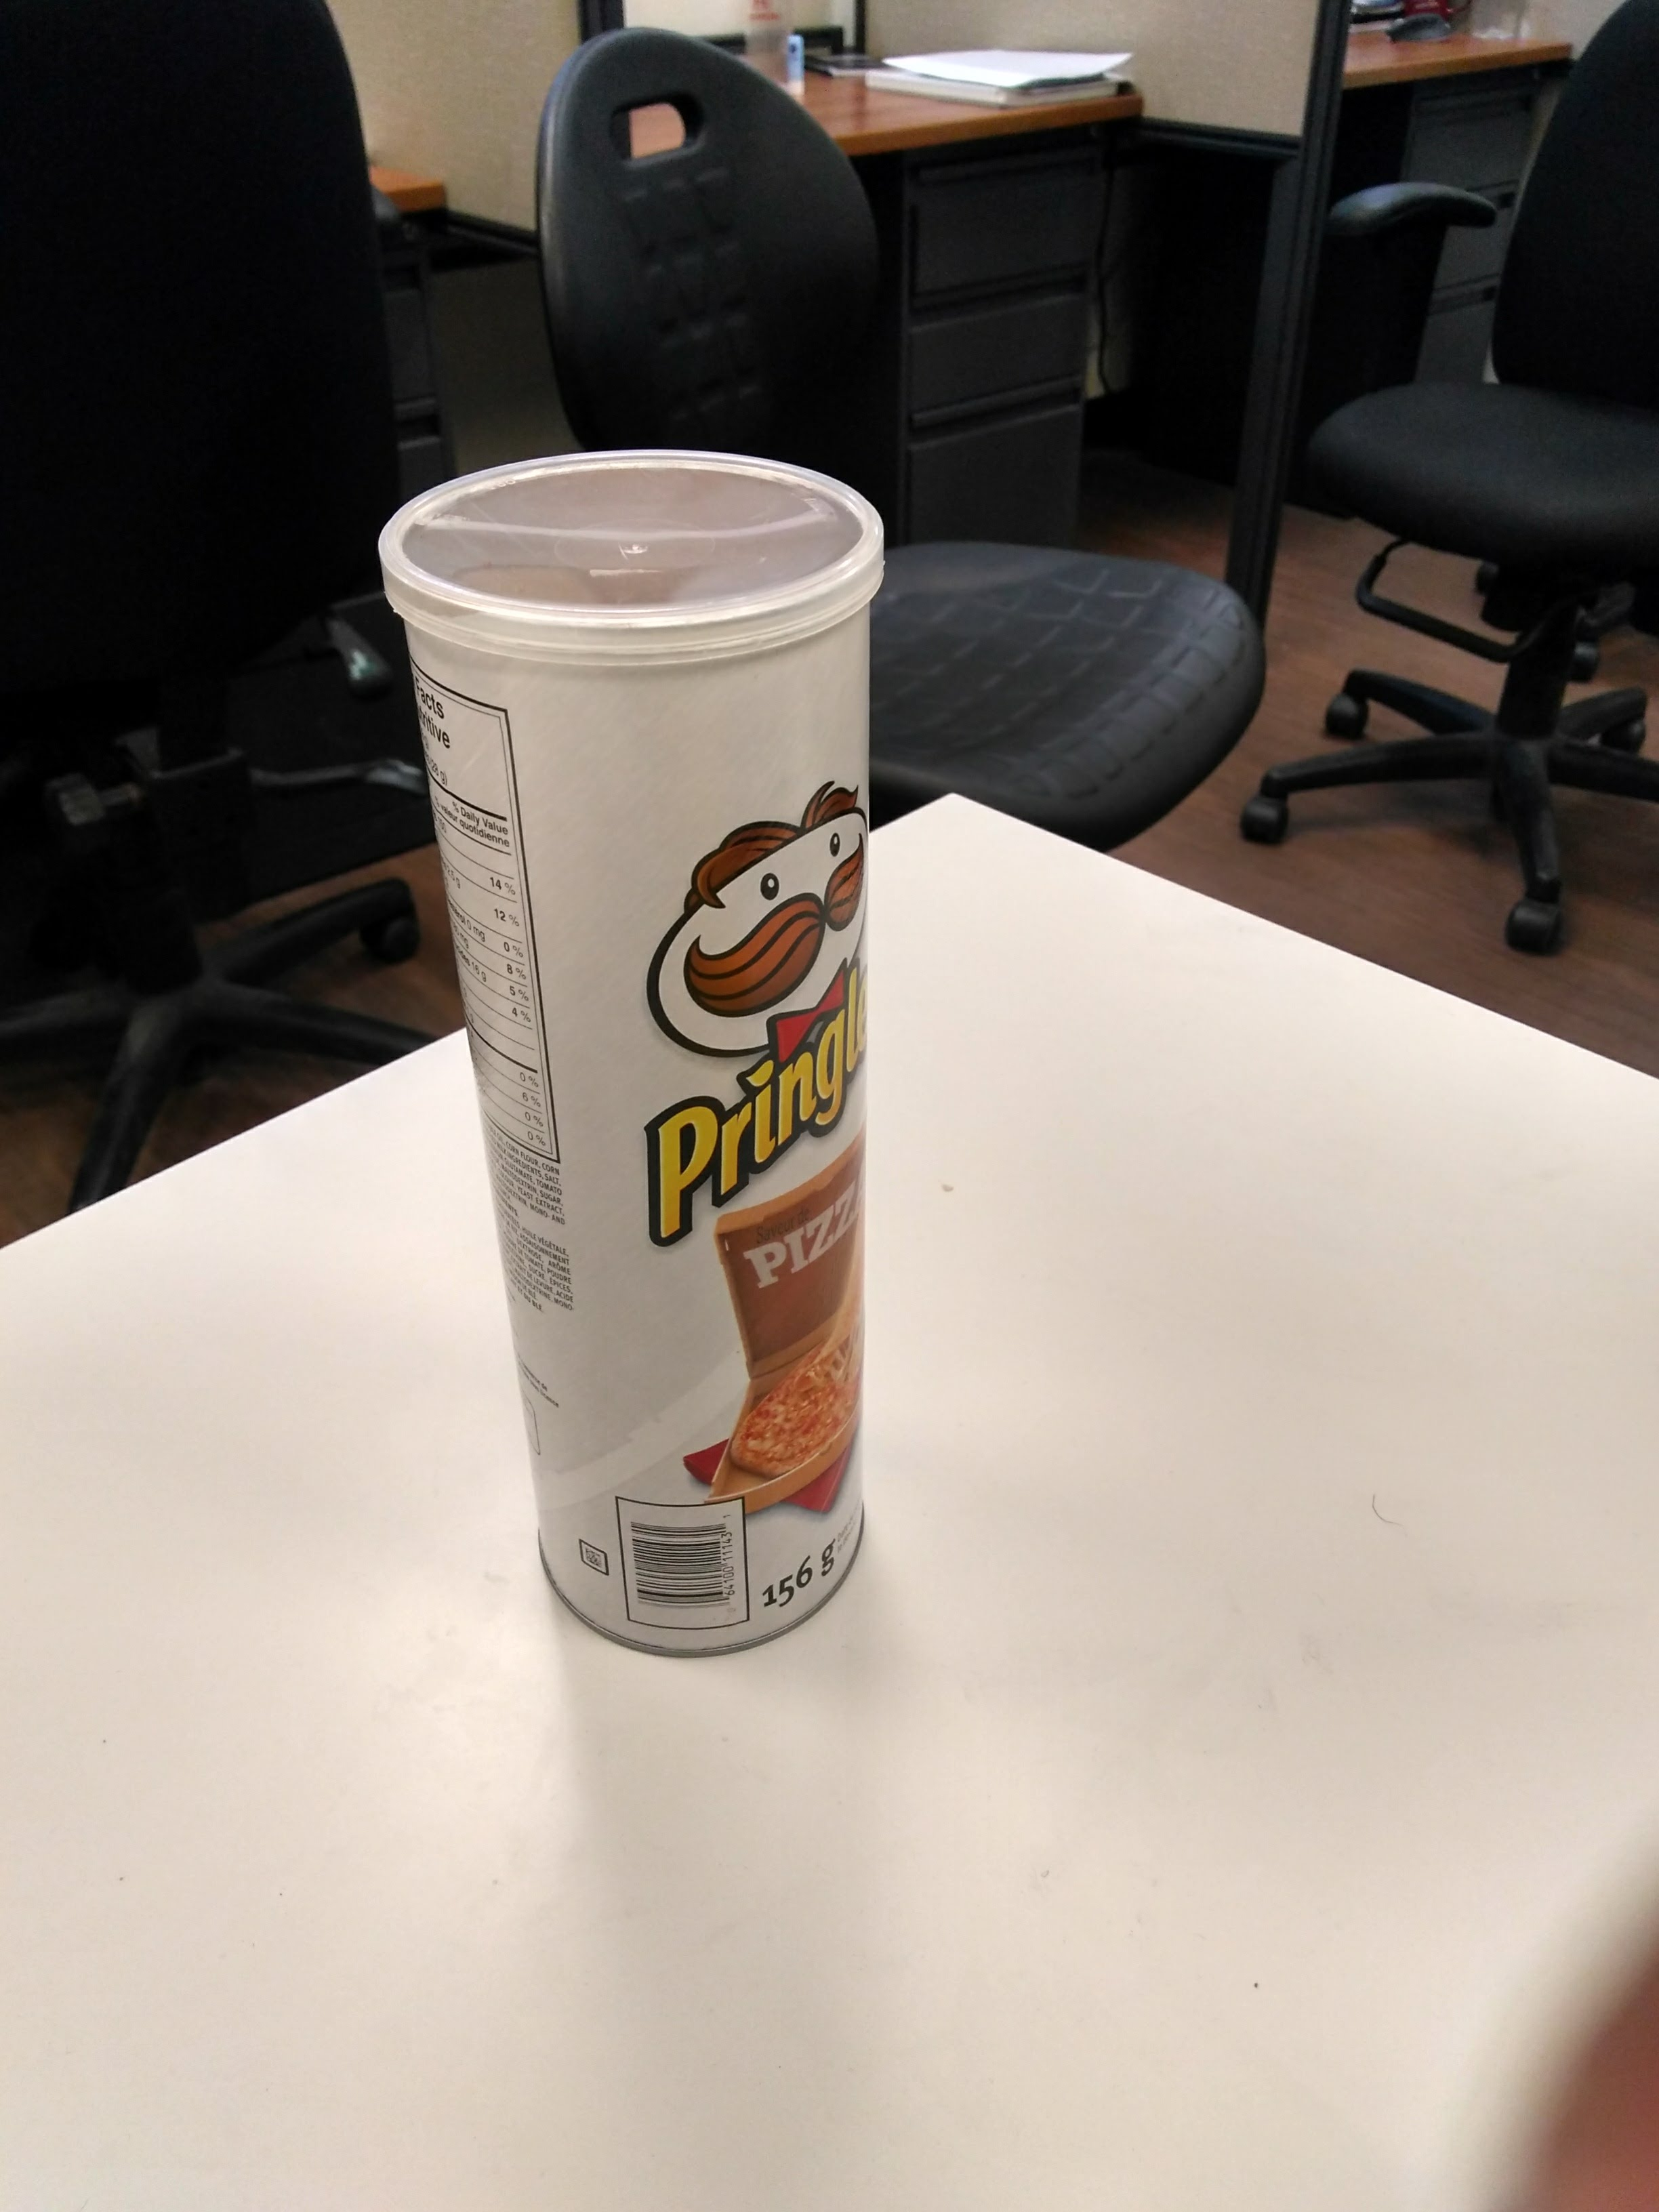pringles: (366, 442, 939, 1705)
